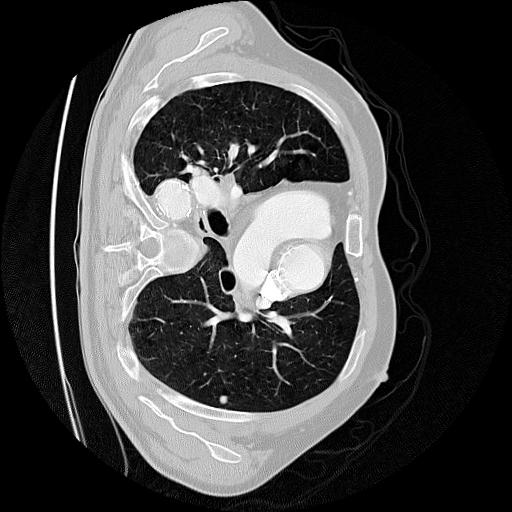nodule: (217, 394, 231, 408)
